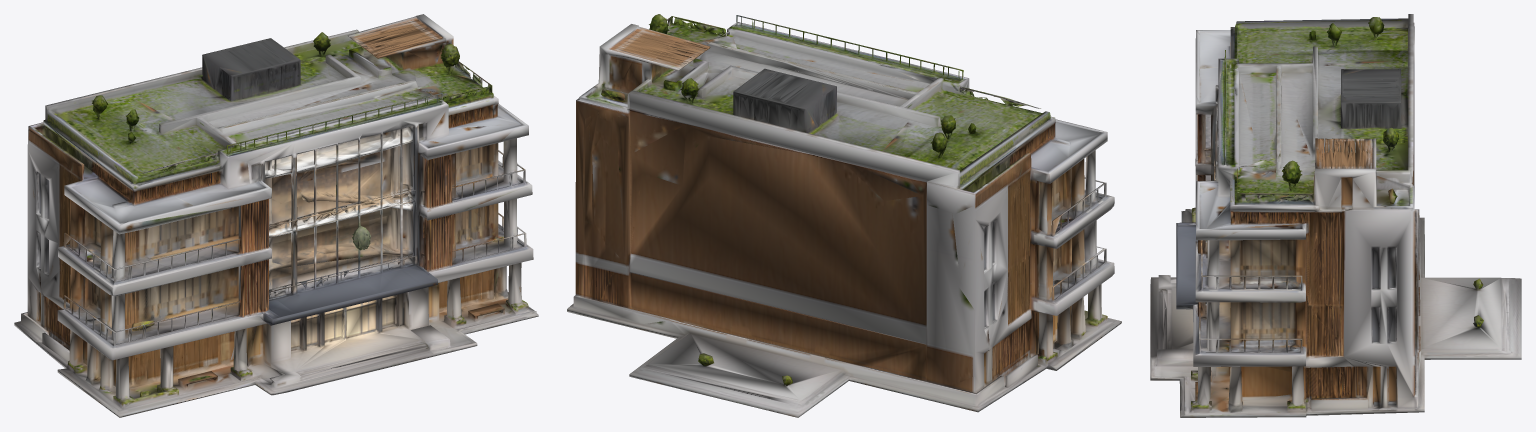
File: passiona-lantern-walk-up.glb
3 views of the same model, side by side, from view 1: azimuth 30°, elevation 25°; view 2: azimuth 150°, elevation 25°; view 3: azimuth 270°, elevation 25° (orthographic). The views are drawn at different scales.
Parts seen in each view (by area): view 1: node_0; view 2: node_0; view 3: node_0.
Part boxes in pixels (x1,y1,x2,y2): node_0: [14, 14, 538, 417]; node_0: [567, 14, 1121, 417]; node_0: [1150, 14, 1521, 417].
Bounding box in the file's own units: 0.9226 × 0.5027 × 0.7033.
Materials: 1 (1 with a texture image).
